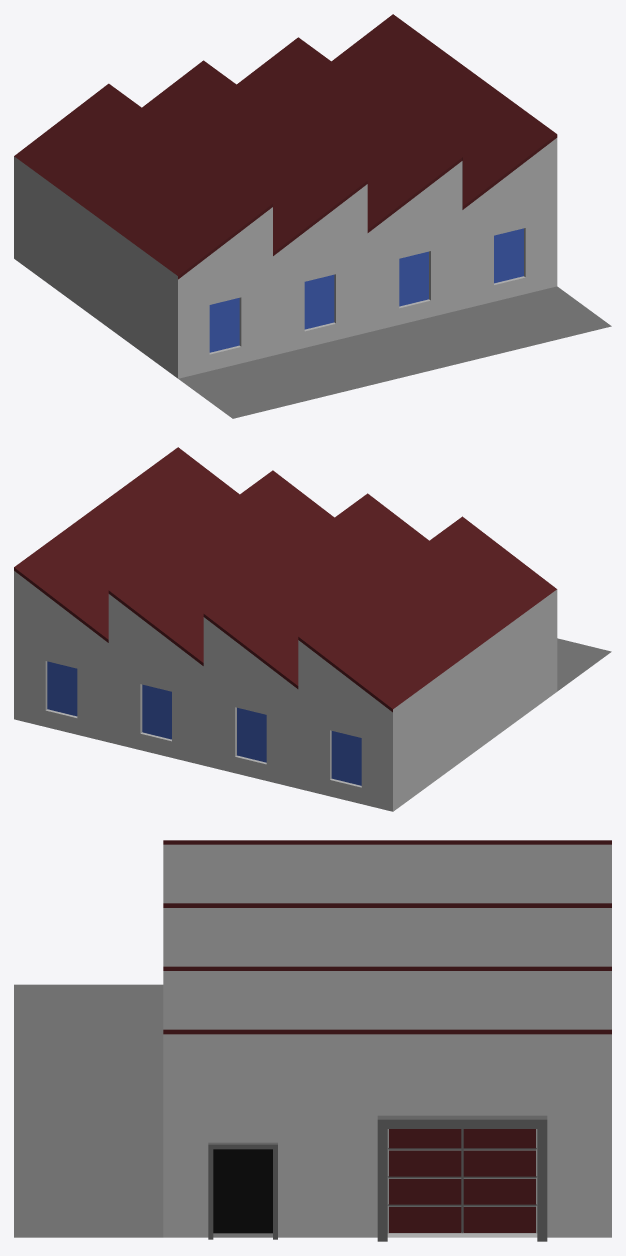
Rendered from Building7.fbx.
3 renders of one model, top to bottom at view 1: azimuth 30°, elevation 25°; view 2: azimuth 150°, elevation 25°; view 3: azimuth 270°, elevation 25°, orthographic. The views are drawn at different scales.
Parts seen in each view (by area): view 1: Building7; view 2: Building7; view 3: Building7.
Boxes of the visible parts, x1,y1,x2,y2 form: Building7: (14, 14, 611, 418); Building7: (14, 447, 611, 811); Building7: (14, 840, 611, 1241).
Size of the model in its own units: 1220 by 460 by 1200.
